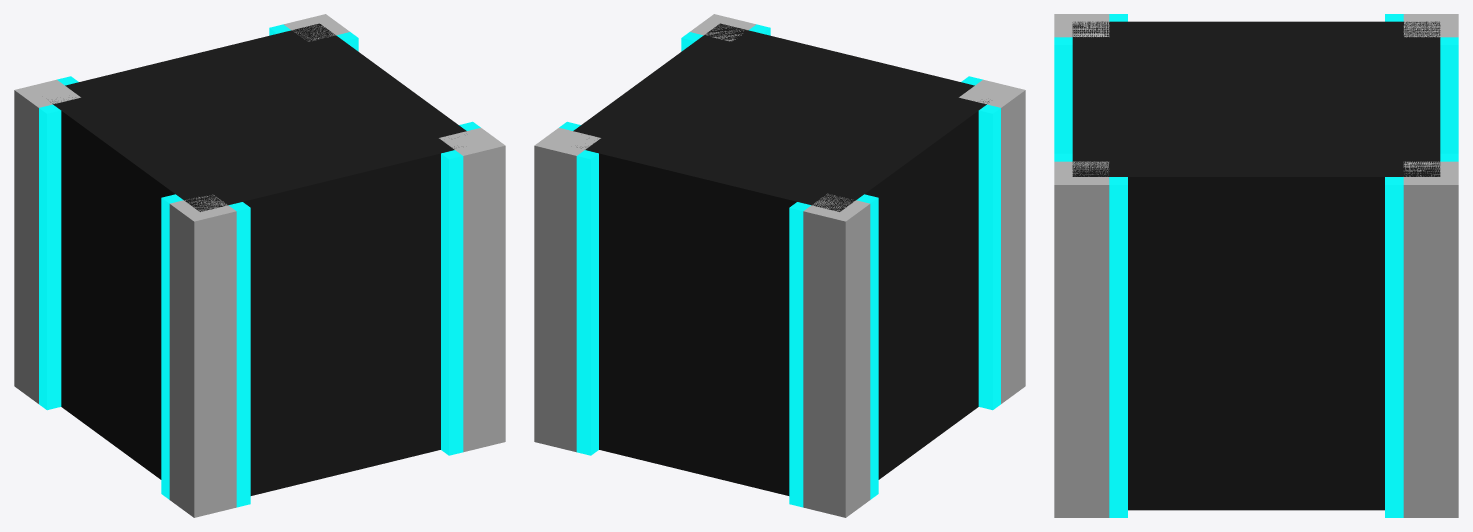
File: body.glb
3 views of the same model, side by side, from view 1: azimuth 30°, elevation 25°; view 2: azimuth 150°, elevation 25°; view 3: azimuth 270°, elevation 25° (orthographic). The views are drawn at different scales.
Parts seen in each view (by area): view 1: Cube; view 2: Cube; view 3: Cube.
Part boxes in pixels (x1,y1,x2,y2): Cube: [14, 14, 505, 517]; Cube: [534, 14, 1025, 517]; Cube: [1054, 14, 1458, 517].
Size of the model in its own units: 2.2 by 2 by 2.2.
